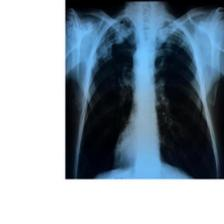tuberculosis: (72, 12, 218, 179)
